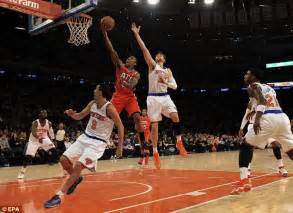basketball: (99, 15, 114, 32)
